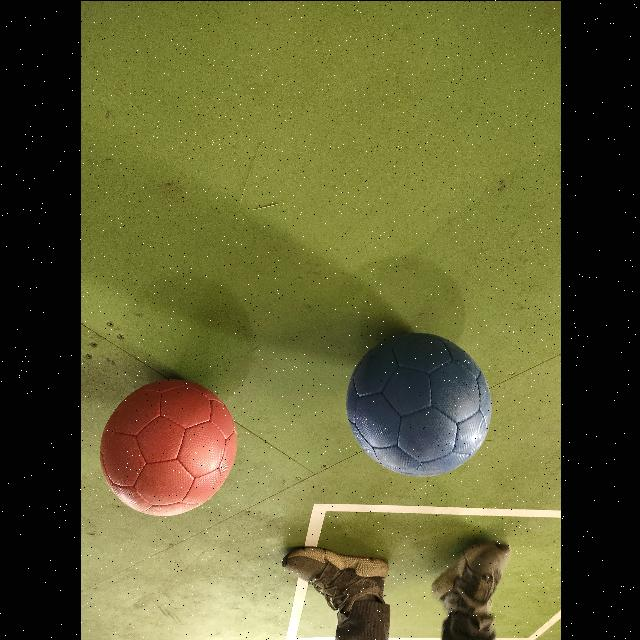B: (346, 332, 490, 474)
R: (100, 378, 236, 514)
